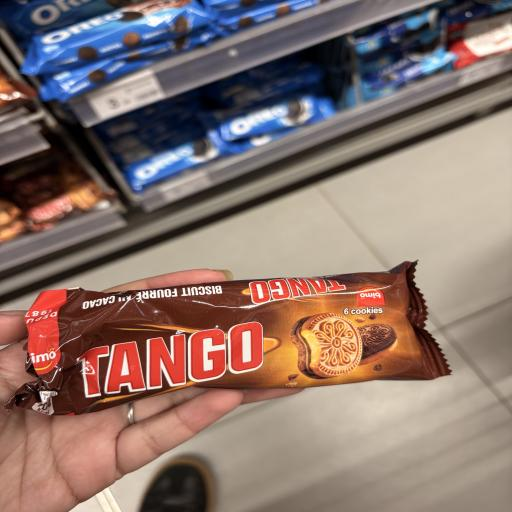tango: (5, 252, 464, 427)
